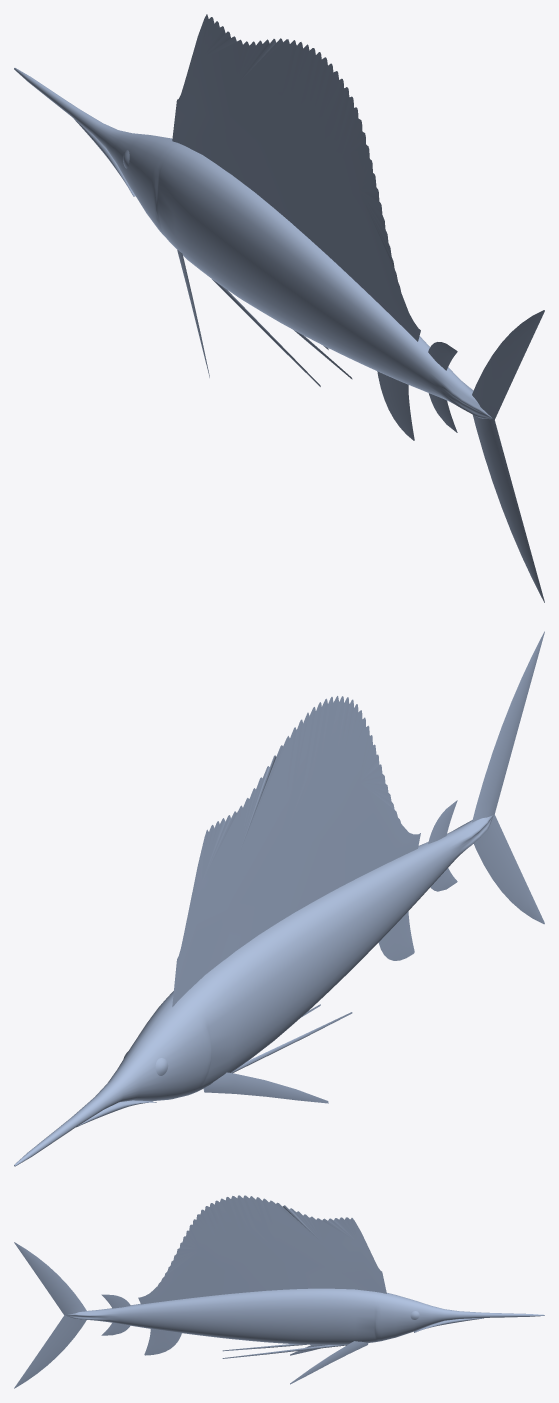
The model's file is sailfish_game.glb.
3 renders of one model, top to bottom at view 1: azimuth 30°, elevation 25°; view 2: azimuth 150°, elevation 25°; view 3: azimuth 270°, elevation 25°, orthographic. The views are drawn at different scales.
Parts seen in each view (by area): view 1: sailfish_game; view 2: sailfish_game; view 3: sailfish_game.
Boxes of the visible parts, left/top/right/bottom form: sailfish_game: left=14, top=14, right=544, bottom=602; sailfish_game: left=14, top=631, right=544, bottom=1166; sailfish_game: left=14, top=1195, right=544, bottom=1388.
Size of the model in its own units: 0.3347 by 1.04 by 2.6.
